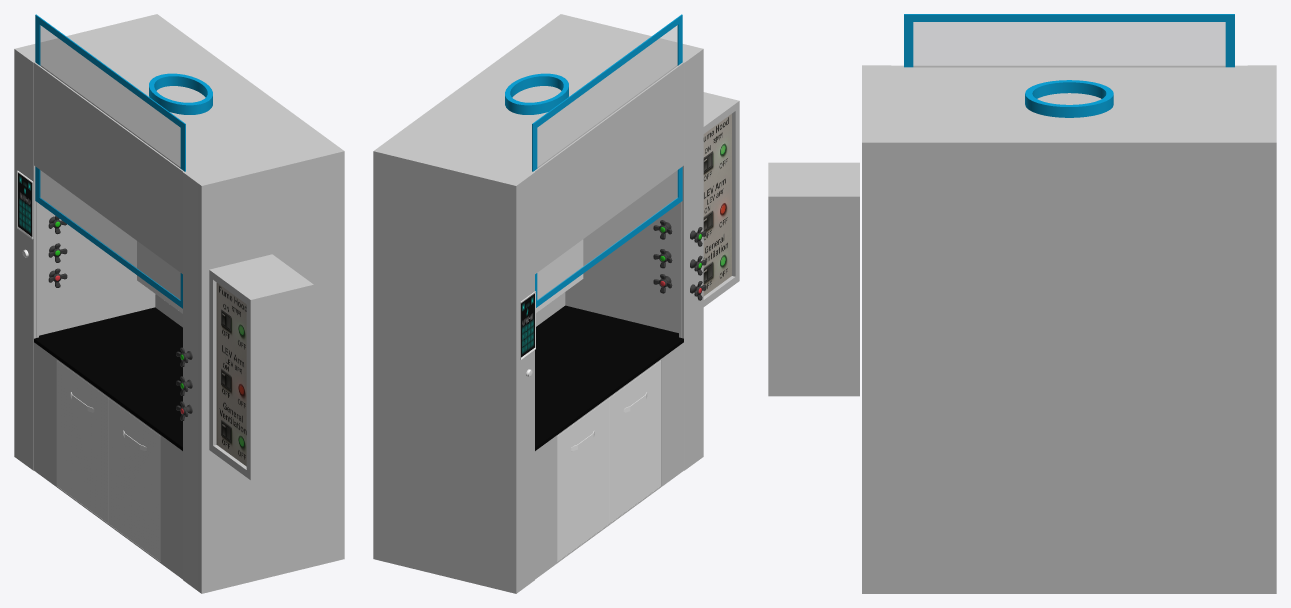
Rendered from FumeHood.glb.
The picture shows the model from 3 angles, left to right: view 1: azimuth 30°, elevation 25°; view 2: azimuth 150°, elevation 25°; view 3: azimuth 270°, elevation 25°; orthographic projection. The views are drawn at different scales.
Parts seen in each view (by area): view 1: Object_4, Cube; view 2: Object_4, Cube; view 3: Object_4, Cube.
Boxes of the visible parts, left/top/right/bottom form: Object_4: left=14, top=14, right=344, bottom=593; Cube: left=209, top=254, right=313, bottom=480; Object_4: left=373, top=14, right=703, bottom=593; Cube: left=703, top=92, right=739, bottom=306; Object_4: left=862, top=14, right=1276, bottom=593; Cube: left=768, top=162, right=859, bottom=396.
Bounding box in the file's own units: 1.19 × 3.4 × 3.11.
12 materials, 2 textured.
